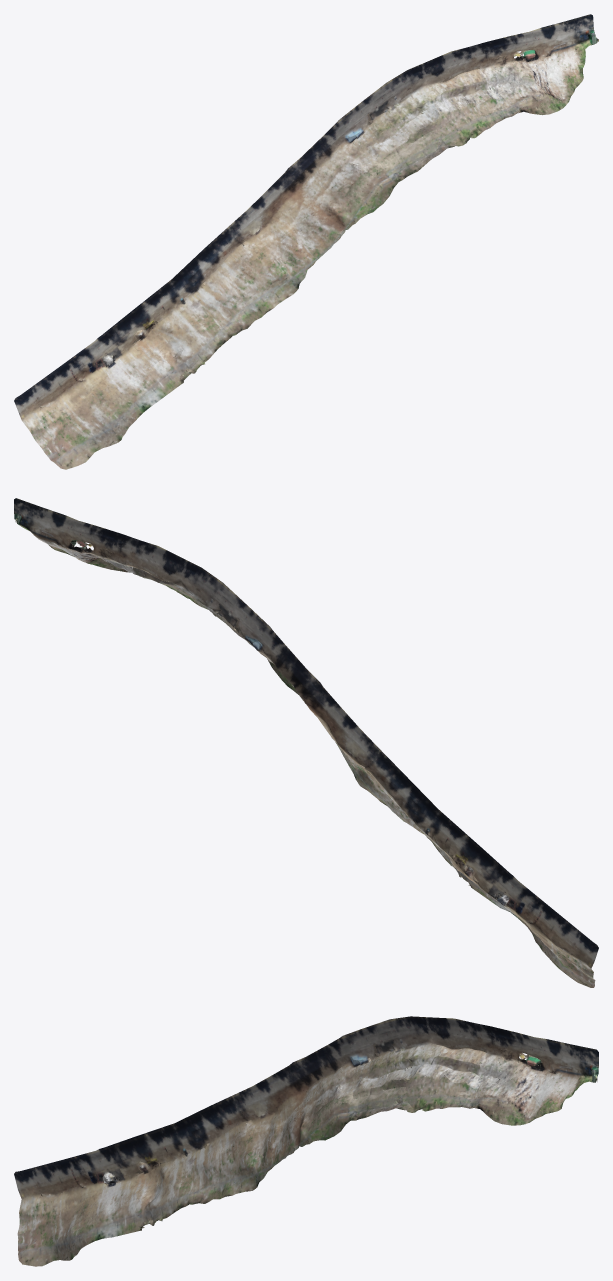
3 renders of one model, top to bottom at view 1: azimuth 30°, elevation 25°; view 2: azimuth 150°, elevation 25°; view 3: azimuth 330°, elevation 25°, orthographic. The views are drawn at different scales.
Parts seen in each view (by area): view 1: Bloco 1; view 2: Bloco 1; view 3: Bloco 1.
Boxes of the visible parts, x1,y1,x2,y2 form: Bloco 1: (14,14,598,469); Bloco 1: (14,498,598,987); Bloco 1: (14,1016,598,1266).
Bounding box in the file's own units: 300 × 166 × 39.54.
1 material, 1 textured.
